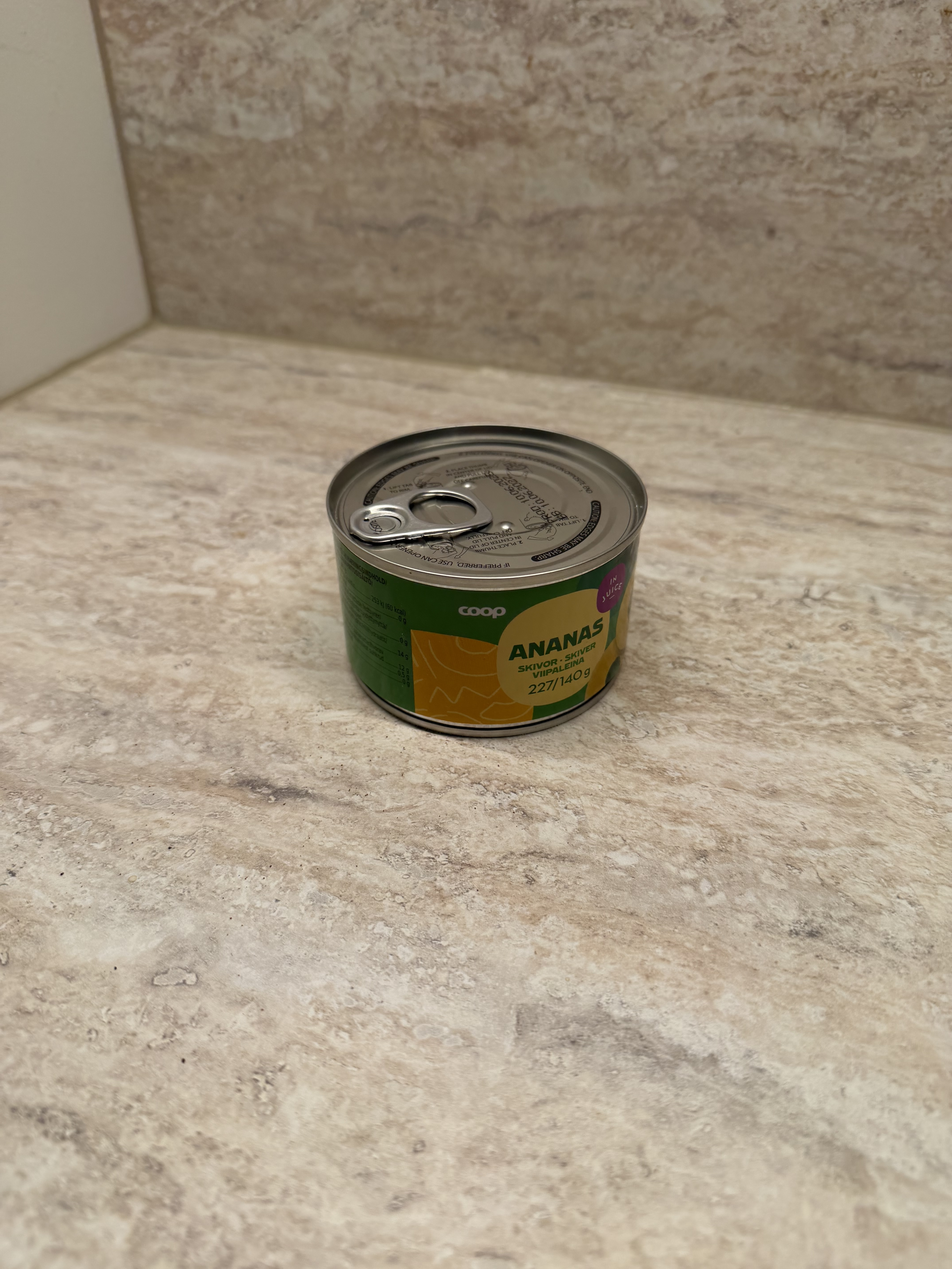Konservburk: (310, 431, 650, 736)
